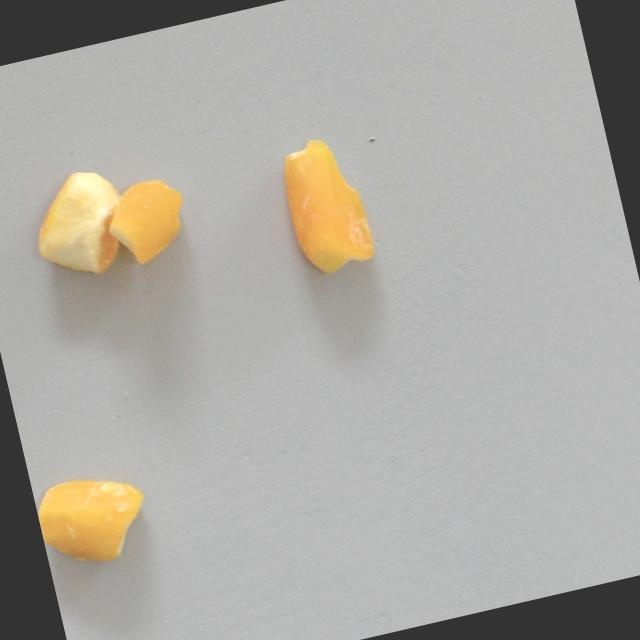estandar: (22, 163, 135, 289), (99, 172, 195, 271)
pelicula: (275, 133, 378, 280), (30, 464, 156, 575)
